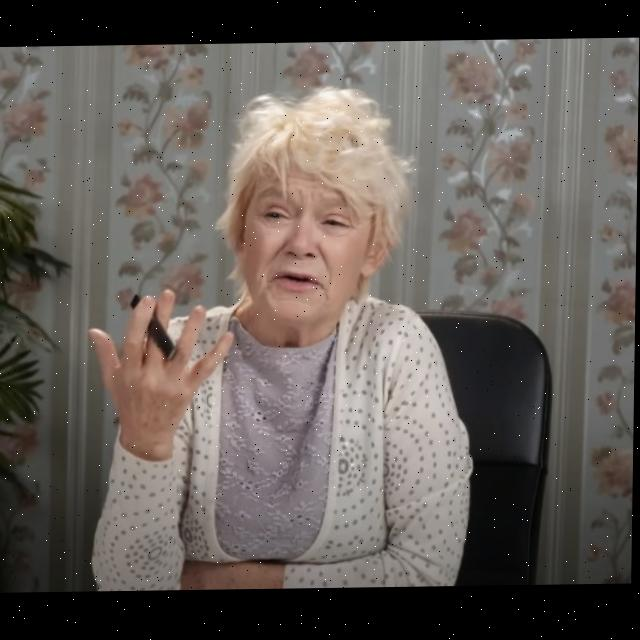vape: (129, 294, 179, 364)
